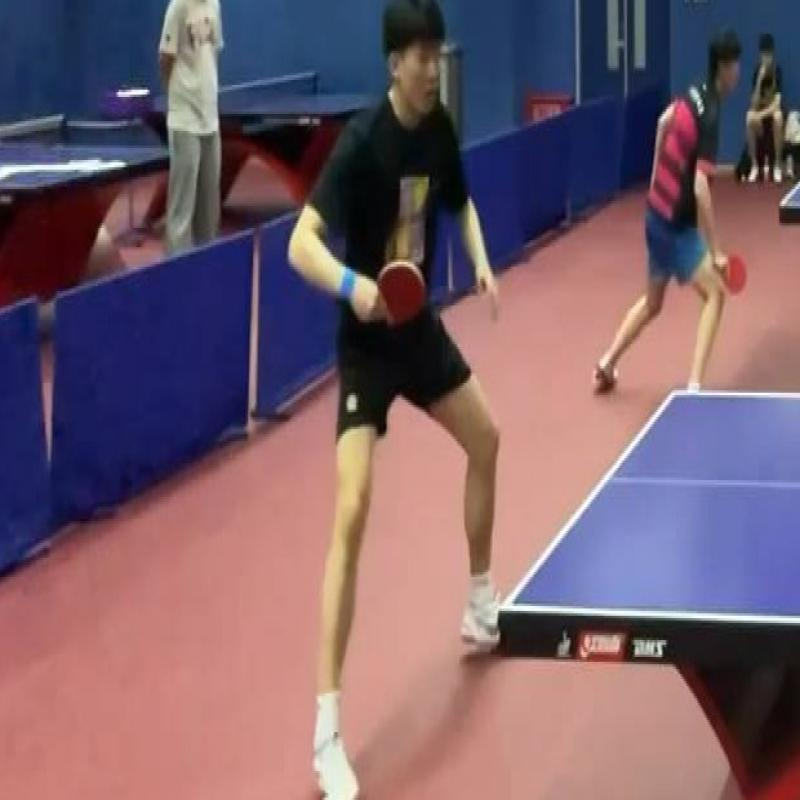bats: (372, 257, 431, 332)
